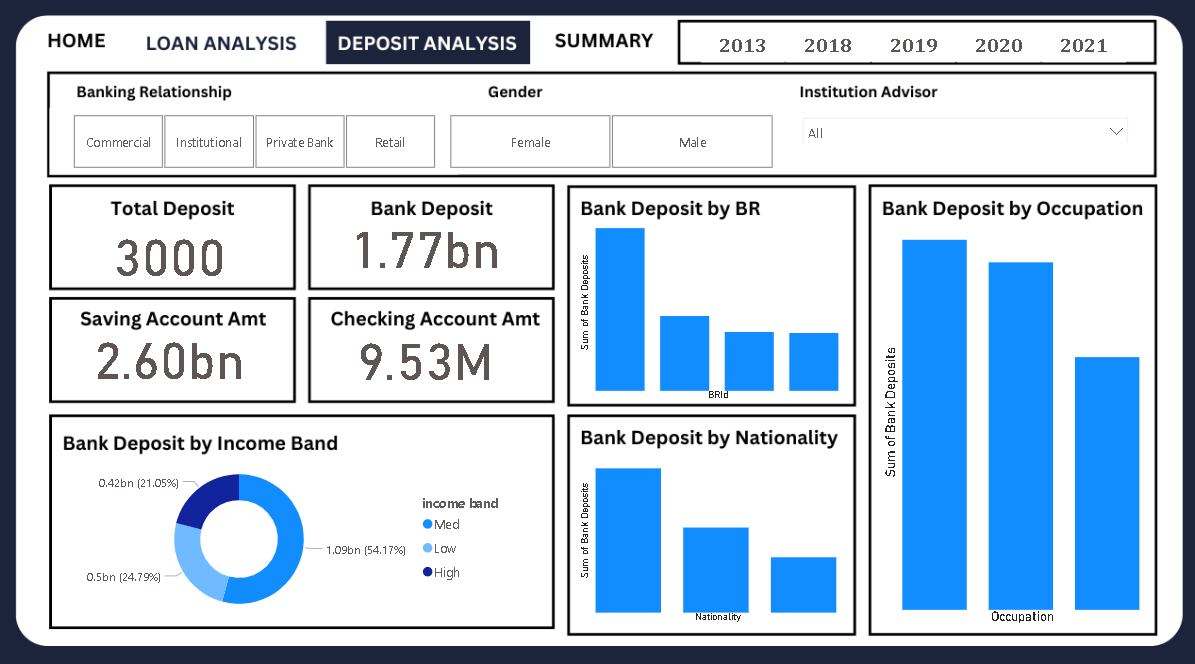

This screenshot's page, from the dashboard's own definition file:
{"tool":"powerbi","page":{"name":"deposit analysis","canvas":[1280,720],"ordinal":4},"visuals":[{"type":"actionButton","box":[39.7,24.6,90.7,47.2],"z":0},{"type":"actionButton","box":[355.3,24.6,202.2,47.2],"z":1000},{"type":"actionButton","box":[570.7,24.6,139.8,47.2],"z":2000},{"type":"card","fields":{"Values":["banking_pro customer.Name"]},"box":[58.6,217.3,255.1,105.8],"z":3000},{"type":"card","fields":{"Values":["banking_pro customer.Bank Loans"]},"box":[334.5,202.2,245.7,120.9],"z":4000},{"type":"card","fields":{"Values":["banking_pro customer.Business Lending"]},"box":[71.8,309.9,228.7,139.8],"z":5000},{"type":"card","fields":{"Values":["banking_pro customer.Credit Card Balance"]},"box":[313.7,326.9,287.2,105.8],"z":6000},{"type":"donutChart","fields":{"Category":["banking_pro customer.income band"],"Y":["banking_pro customer.Bank Deposits"]},"box":[60.5,481.9,497,187.1],"z":7000},{"type":"columnChart","fields":{"Category":["banking_pro customer.BRId"],"Y":["banking_pro customer.Bank Deposits"]},"box":[616.1,217.3,287.2,215.4],"z":8000},{"type":"columnChart","fields":{"Y":["banking_pro customer.Bank Deposits"],"Category":["banking_pro customer.Nationality"]},"box":[616.1,464.9,287.2,204.1],"z":9000},{"type":"columnChart","fields":{"Y":["banking_pro customer.Bank Deposits"],"Category":["banking_pro customer.Occupation"]},"box":[937.3,217.3,287.2,451.7],"z":10000},{"type":"slicer","fields":{"Values":["banking_pro customer.BRId"]},"box":[58.6,119.1,432.8,69.9],"z":11000},{"type":"slicer","fields":{"Values":["banking_pro customer.GenderId"]},"box":[457.3,119.1,391.2,69.9],"z":12000},{"type":"slicer","fields":{"Values":["banking_pro customer.IAId"]},"box":[848.5,119.1,364.7,35.9],"z":13000},{"type":"actionButton","box":[139.8,24.6,215.4,49.1],"z":13001},{"type":"slicer","fields":{"Values":["banking_pro customer.year_of_join"]},"box":[723.8,26.5,500.8,45.4],"z":13002},{"type":"actionButton","box":[580.2,24.6,139.8,47.2],"z":13003}]}

Visuals, with their boxes in screenshot pixels (x1, y1, x2, y2), scaled from the page's 1280x720 canvas onto the 1195x664 screenshot:
actionButton: <bbox>37, 23, 122, 66</bbox>
actionButton: <bbox>332, 23, 520, 66</bbox>
actionButton: <bbox>533, 23, 663, 66</bbox>
card - banking_pro customer.Name: <bbox>55, 200, 293, 298</bbox>
card - banking_pro customer.Bank Loans: <bbox>312, 186, 542, 298</bbox>
card - banking_pro customer.Business Lending: <bbox>67, 286, 281, 415</bbox>
card - banking_pro customer.Credit Card Balance: <bbox>293, 301, 561, 399</bbox>
donutChart - banking_pro customer.income band x banking_pro customer.Bank Deposits: <bbox>56, 444, 520, 617</bbox>
columnChart - banking_pro customer.BRId x banking_pro customer.Bank Deposits: <bbox>575, 200, 843, 399</bbox>
columnChart - banking_pro customer.Bank Deposits x banking_pro customer.Nationality: <bbox>575, 429, 843, 617</bbox>
columnChart - banking_pro customer.Bank Deposits x banking_pro customer.Occupation: <bbox>875, 200, 1143, 617</bbox>
slicer - banking_pro customer.BRId: <bbox>55, 110, 459, 174</bbox>
slicer - banking_pro customer.GenderId: <bbox>427, 110, 792, 174</bbox>
slicer - banking_pro customer.IAId: <bbox>792, 110, 1133, 143</bbox>
actionButton: <bbox>131, 23, 332, 68</bbox>
slicer - banking_pro customer.year_of_join: <bbox>676, 24, 1143, 66</bbox>
actionButton: <bbox>542, 23, 672, 66</bbox>
